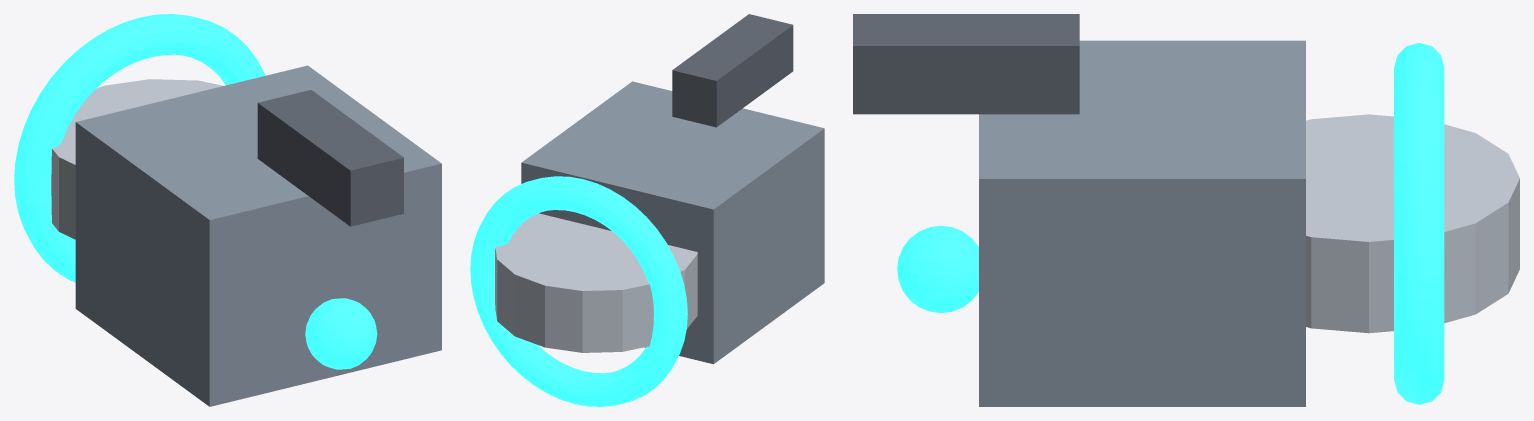
The model's file is tool_shield.glb.
3 renders of one model, left to right at view 1: azimuth 30°, elevation 25°; view 2: azimuth 150°, elevation 25°; view 3: azimuth 270°, elevation 25°, orthographic. The views are drawn at different scales.
Visible parts, largest first — view 1: Body, EmitterRing, Lever, Emitter, Lamp; view 2: Body, Emitter, EmitterRing, Lever; view 3: Body, Emitter, Lever, EmitterRing, Lamp.
Part boxes in pixels (bbox=[...]): Body: bbox=[75, 65, 441, 406]; EmitterRing: bbox=[14, 14, 265, 282]; Lever: bbox=[257, 90, 403, 226]; Emitter: bbox=[51, 79, 223, 239]; Lamp: bbox=[305, 298, 377, 369]; Body: bbox=[521, 81, 824, 364]; Emitter: bbox=[495, 213, 697, 352]; EmitterRing: bbox=[470, 176, 687, 406]; Lever: bbox=[672, 14, 793, 127]; Body: bbox=[979, 40, 1305, 406]; Emitter: bbox=[1306, 114, 1519, 333]; Lever: bbox=[853, 14, 1079, 114]; EmitterRing: bbox=[1394, 43, 1444, 404]; Lamp: bbox=[897, 225, 978, 312].
Size of the model in its own units: 0.144 by 0.157 by 0.265.
